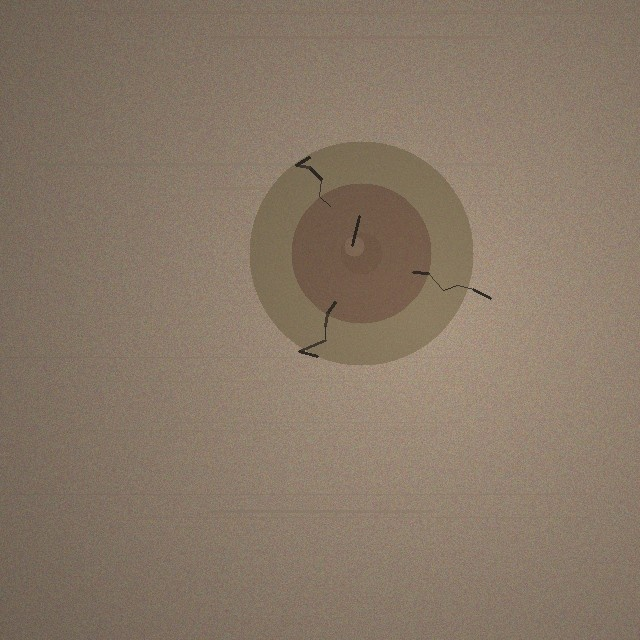crack: (249, 141, 473, 365)
